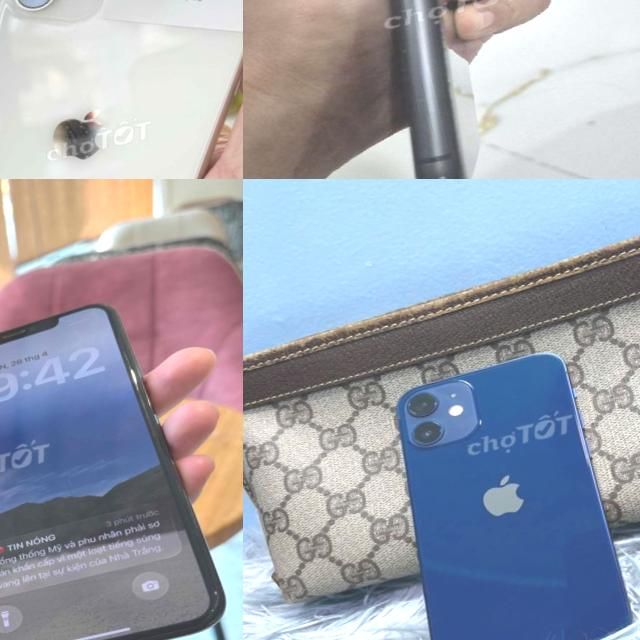scratch: (382, 24, 428, 94), (415, 157, 465, 179)
